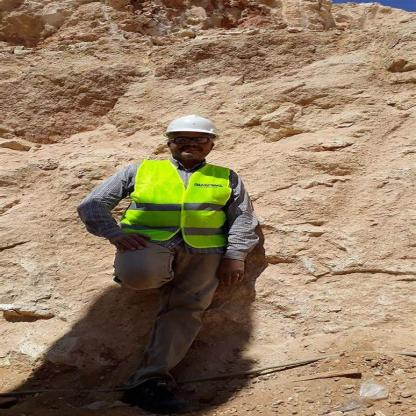person: (79, 102, 262, 406)
